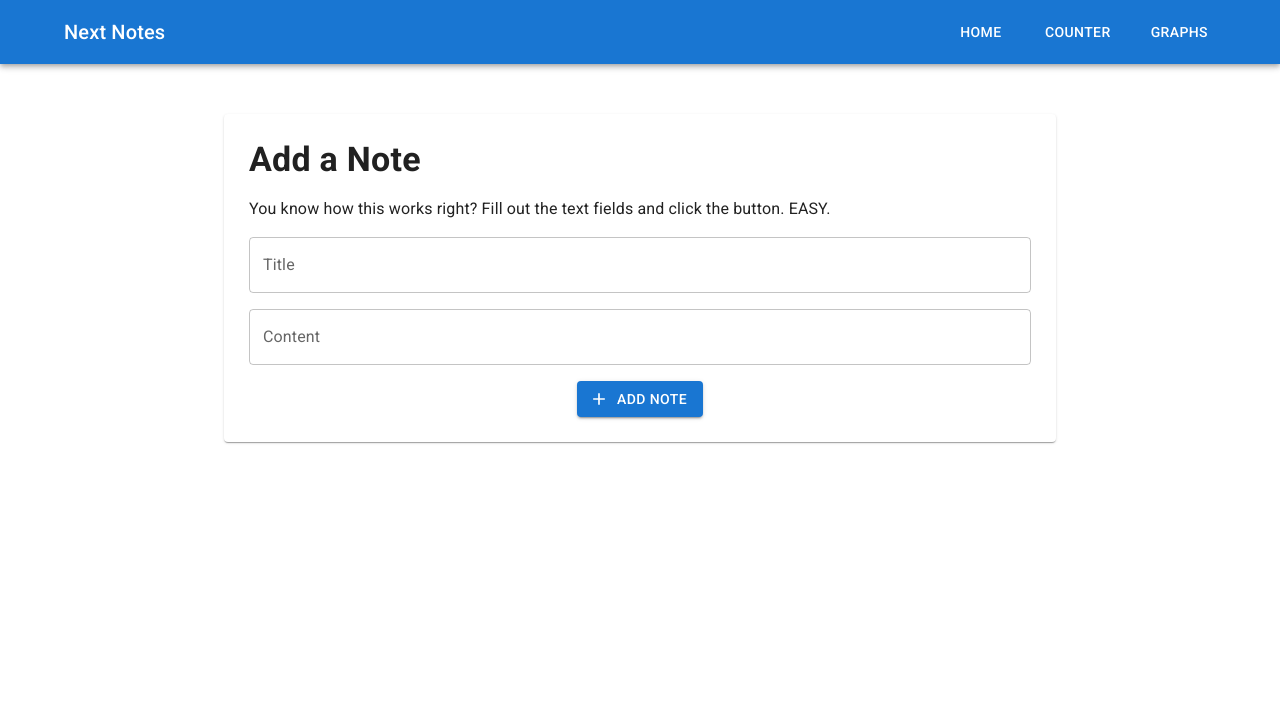
Test: Home Page Tests › Form Validation Should fail when the title is too short.
Enter invalid title
Type "Ab" into the element with test id "title-input" at (640, 265), box [249,237,1031,293]
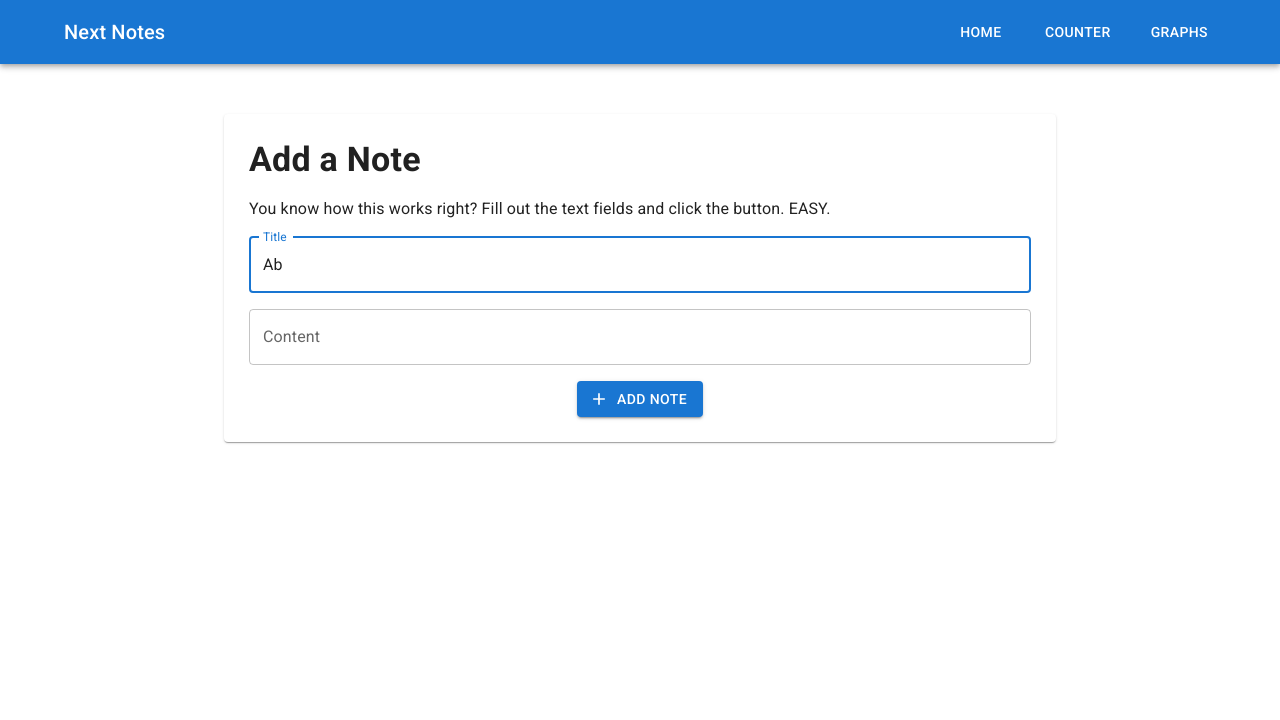
Click the button
Click the button with test id "add-note-submit" at (640, 400), box [577,381,703,418]
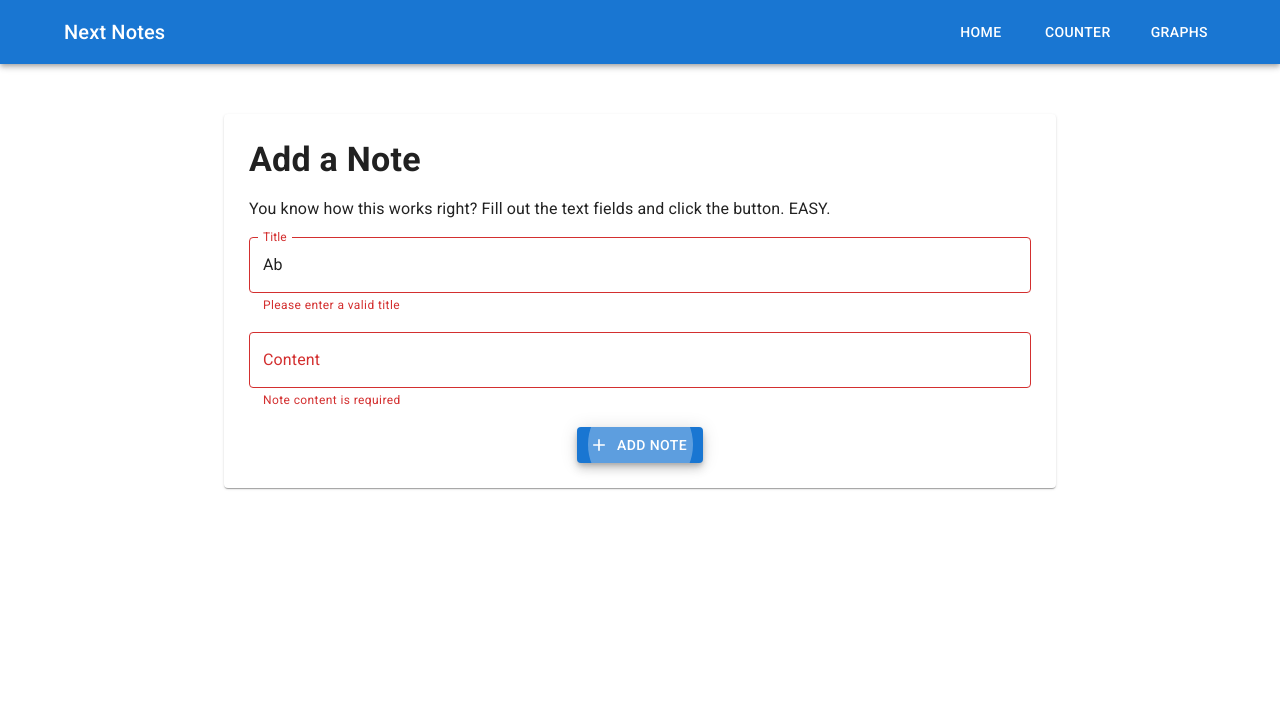
Now the text "Please enter a valid title" is shown, box [263,298,400,312]
